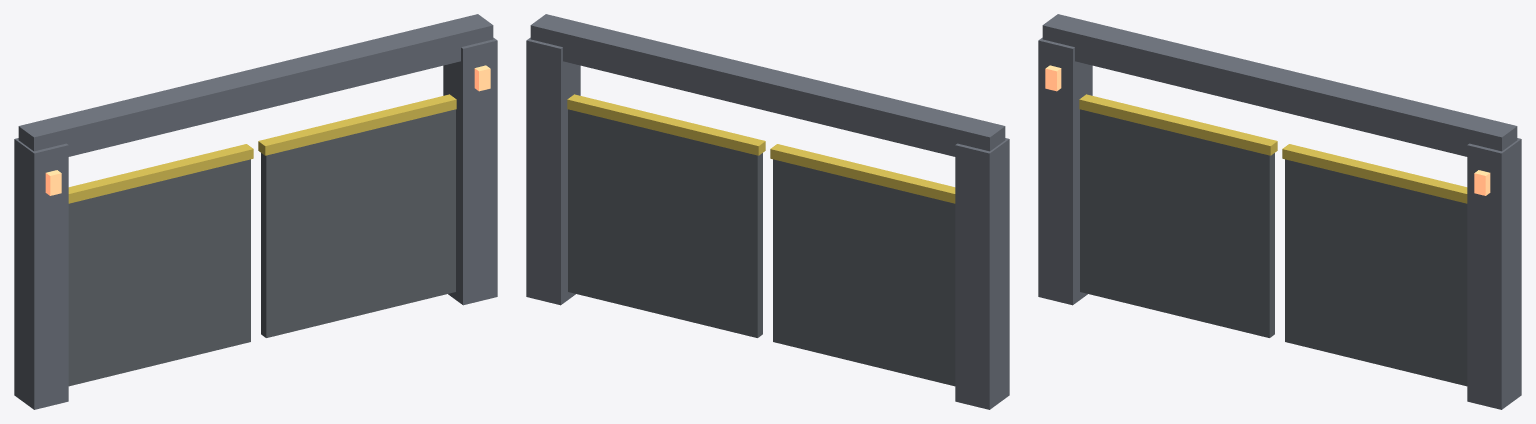
Rendered from relay_gate.glb.
3 views of the same model, side by side, from view 1: azimuth 30°, elevation 25°; view 2: azimuth 150°, elevation 25°; view 3: azimuth 330°, elevation 25° (orthographic).
Parts seen in each view (by area): view 1: GateDoor_R, GateDoor_L, Overhead_Bar, GatePost_L, GatePost_R, Door_R_Frame, Door_L_Frame; view 2: GateDoor_R, GateDoor_L, Overhead_Bar, GatePost_L, GatePost_R, Door_R_Frame, Door_L_Frame; view 3: GateDoor_L, GateDoor_R, Overhead_Bar, GatePost_R, GatePost_L, Door_L_Frame, Door_R_Frame.
Boxes of the visible parts, x1,y1,x2,y2 form: GateDoor_R: (261, 109, 455, 337); GateDoor_L: (68, 159, 250, 386); Overhead_Bar: (18, 14, 493, 156); GatePost_L: (14, 138, 68, 409); GatePost_R: (443, 37, 497, 305); Door_R_Frame: (258, 94, 456, 155); Door_L_Frame: (68, 144, 253, 203); GateDoor_R: (568, 109, 762, 337); GateDoor_L: (773, 159, 955, 386); Overhead_Bar: (530, 14, 1005, 156); GatePost_L: (955, 138, 1009, 409); GatePost_R: (526, 37, 580, 305); Door_R_Frame: (567, 94, 765, 155); Door_L_Frame: (770, 144, 955, 203); GateDoor_L: (1080, 109, 1274, 337); GateDoor_R: (1285, 159, 1467, 386); Overhead_Bar: (1042, 14, 1517, 156); GatePost_R: (1467, 138, 1521, 409); GatePost_L: (1038, 37, 1092, 305); Door_L_Frame: (1079, 94, 1277, 155); Door_R_Frame: (1282, 144, 1467, 203).
Bounding box in the file's own units: 6.05 × 3.38 × 0.55.
